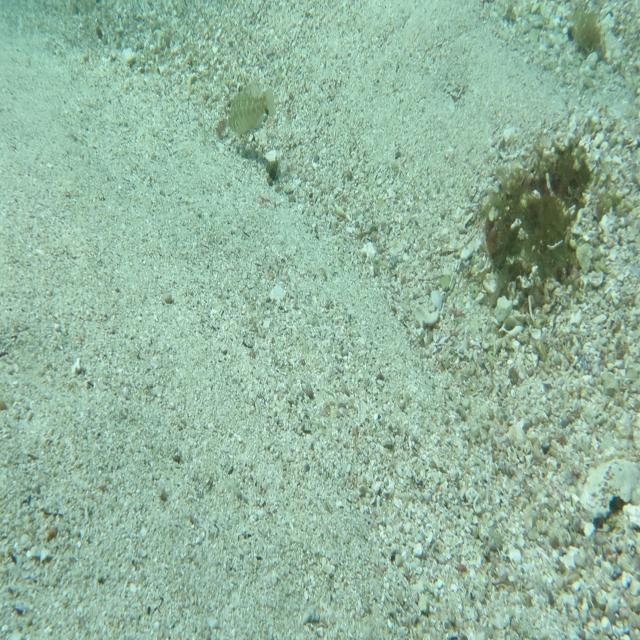SA: (227, 78, 276, 135)
core_nest: (549, 151, 584, 186)
nest: (484, 127, 592, 316)
vegetation: (571, 0, 608, 64), (263, 156, 283, 184), (215, 116, 230, 142)
